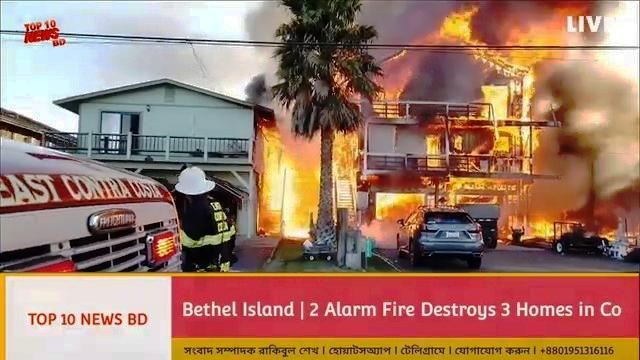fire: (260, 131, 315, 229), (482, 82, 534, 124), (439, 5, 476, 42), (379, 192, 420, 216), (529, 218, 568, 241)
smoke: (560, 55, 637, 175)
